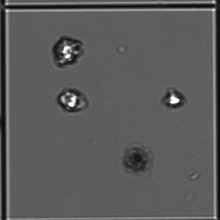Dead Cell: (123, 142, 159, 184)
Living Cell: (53, 81, 95, 121), (47, 30, 85, 68), (156, 81, 189, 116)
